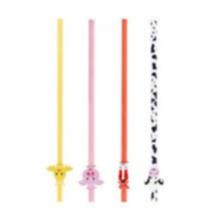drinking_straw: (43, 14, 74, 208), (77, 15, 107, 207), (141, 14, 167, 206), (113, 14, 136, 207)
